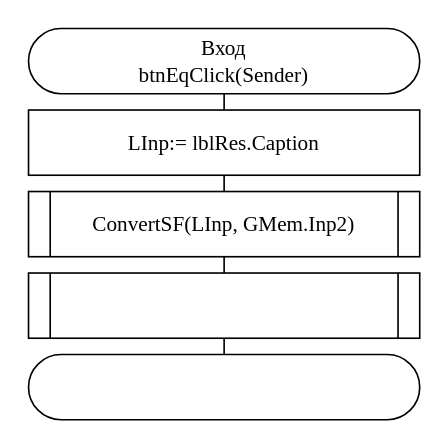
The diagram is 448 pixels wide and 448 high, and some of its shapes have lost their labels. The box of each missing label's shape, as (x1, y1, x2, y2) in pixels:
Display(): (27, 271, 420, 338)
Выход btnEqClick(Sender): (27, 353, 420, 420)
